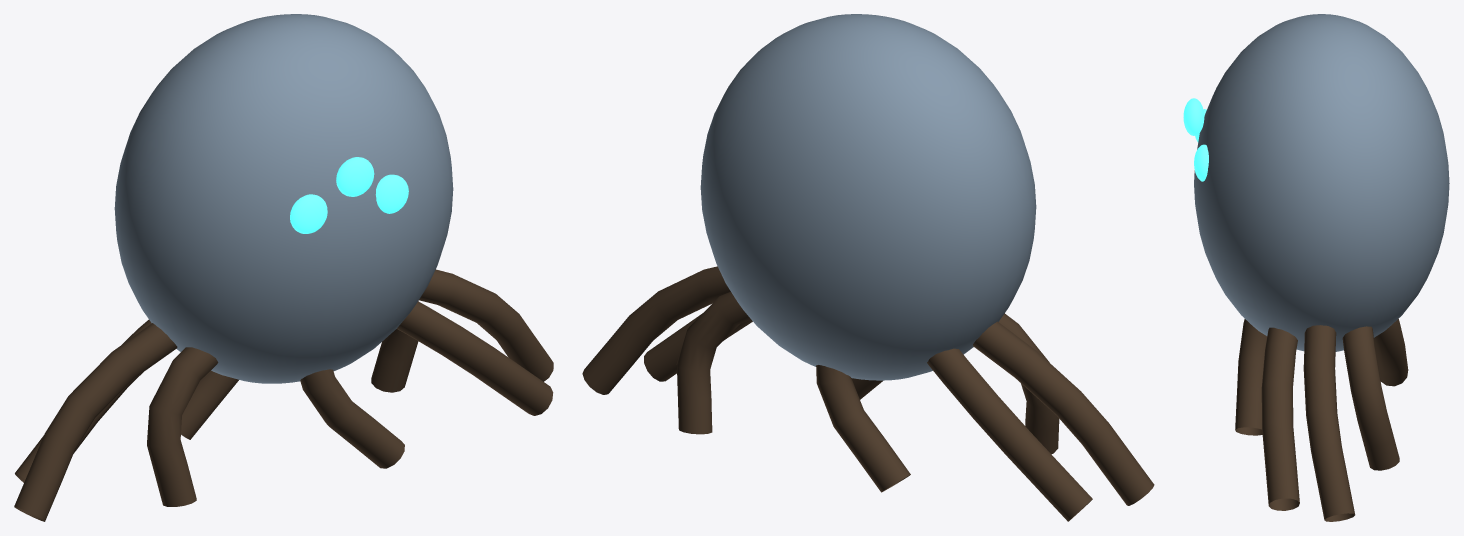
Rendered from aberration.glb.
The picture shows the model from 3 angles, left to right: view 1: azimuth 30°, elevation 25°; view 2: azimuth 150°, elevation 25°; view 3: azimuth 270°, elevation 25°; orthographic projection. The views are drawn at different scales.
Visible parts, largest first — view 1: ABERRANT_BODY_PRIMARY, TENTACLE_SECONDARY.004, TENTACLE_SECONDARY.007, TENTACLE_SECONDARY.005, TENTACLE_SECONDARY, TENTACLE_SECONDARY.006, TENTACLE_SECONDARY.001, TENTACLE_SECONDARY.002, EYE_EMISSIVE.001, EYE_EMISSIVE, EYE_EMISSIVE.002, TENTACLE_SECONDARY.003; view 2: ABERRANT_BODY_PRIMARY, TENTACLE_SECONDARY.004, TENTACLE_SECONDARY.003, TENTACLE_SECONDARY, TENTACLE_SECONDARY.001, TENTACLE_SECONDARY.002, TENTACLE_SECONDARY.005, TENTACLE_SECONDARY.007; view 3: ABERRANT_BODY_PRIMARY, TENTACLE_SECONDARY, TENTACLE_SECONDARY.007, TENTACLE_SECONDARY.001, TENTACLE_SECONDARY.006, TENTACLE_SECONDARY.002, EYE_EMISSIVE.001, EYE_EMISSIVE.002.
Boxes of the visible parts, x1,y1,x2,y2 form: ABERRANT_BODY_PRIMARY: (114,14,453,383); TENTACLE_SECONDARY.004: (14,323,177,521); TENTACLE_SECONDARY.007: (397,301,553,415); TENTACLE_SECONDARY.005: (147,347,218,506); TENTACLE_SECONDARY: (419,269,553,381); TENTACLE_SECONDARY.006: (300,369,404,468); TENTACLE_SECONDARY.001: (371,329,418,392); TENTACLE_SECONDARY.002: (181,370,238,439); EYE_EMISSIVE.001: (336,157,374,196); EYE_EMISSIVE: (290,194,327,233); EYE_EMISSIVE.002: (375,174,408,213); TENTACLE_SECONDARY.003: (15,319,151,482); ABERRANT_BODY_PRIMARY: (700,14,1036,380); TENTACLE_SECONDARY.004: (973,321,1154,505); TENTACLE_SECONDARY.003: (927,348,1092,521); TENTACLE_SECONDARY: (582,266,730,394); TENTACLE_SECONDARY.001: (676,292,750,434); TENTACLE_SECONDARY.002: (816,365,910,492); TENTACLE_SECONDARY.005: (999,313,1059,454); TENTACLE_SECONDARY.007: (644,313,752,381); ABERRANT_BODY_PRIMARY: (1194,14,1449,351); TENTACLE_SECONDARY: (1303,325,1355,521); TENTACLE_SECONDARY.007: (1261,327,1299,510); TENTACLE_SECONDARY.001: (1342,326,1399,470); TENTACLE_SECONDARY.006: (1235,319,1267,435); TENTACLE_SECONDARY.002: (1374,319,1408,386); EYE_EMISSIVE.001: (1183,98,1204,135); EYE_EMISSIVE.002: (1194,144,1208,181).
Bounding box in the file's own units: 2.73 × 2.03 × 1.27.
